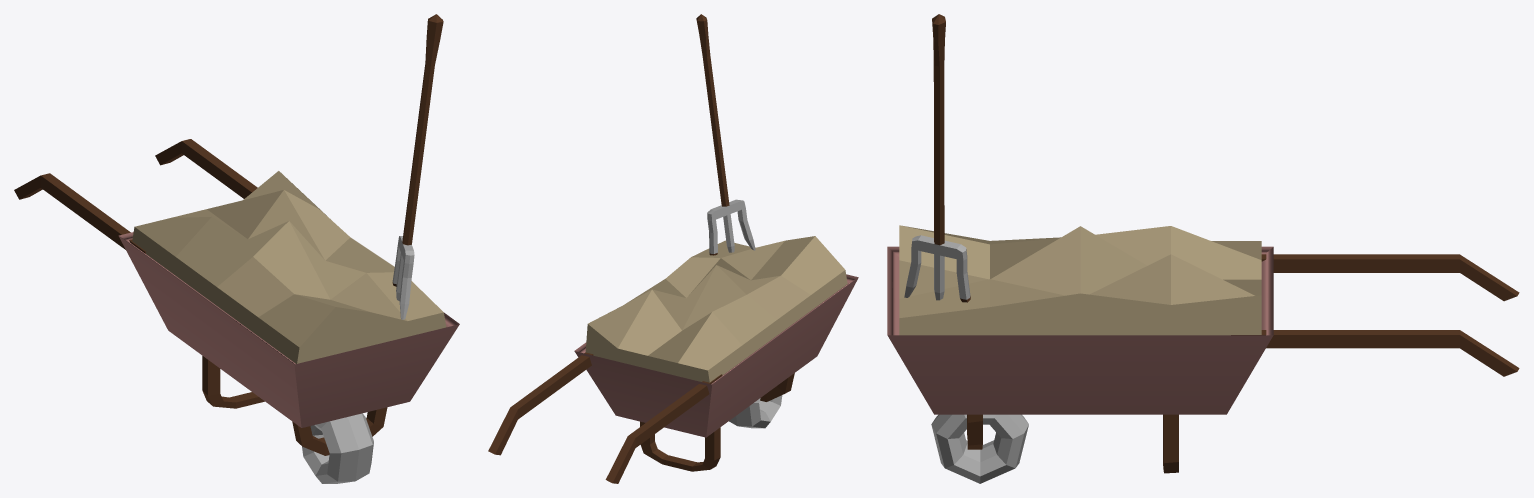
File: Wheelbarrow.fbx
3 renders of one model, left to right at view 1: azimuth 30°, elevation 25°; view 2: azimuth 150°, elevation 25°; view 3: azimuth 270°, elevation 25°, orthographic. The views are drawn at different scales.
Parts seen in each view (by area): view 1: Wheelbarrow1; view 2: Wheelbarrow1; view 3: Wheelbarrow1.
Boxes of the visible parts, bbox=[...] form: Wheelbarrow1: bbox=[14, 14, 459, 483]; Wheelbarrow1: bbox=[488, 14, 858, 483]; Wheelbarrow1: bbox=[887, 14, 1519, 483].
Size of the model in its own units: 14.62 by 37.73 by 42.46.
